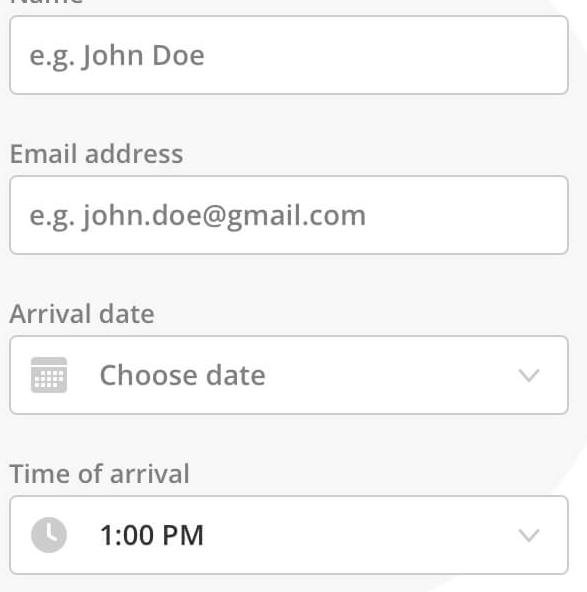field: (7, 492, 574, 577), (8, 172, 574, 255), (10, 334, 573, 417), (10, 15, 569, 96)
